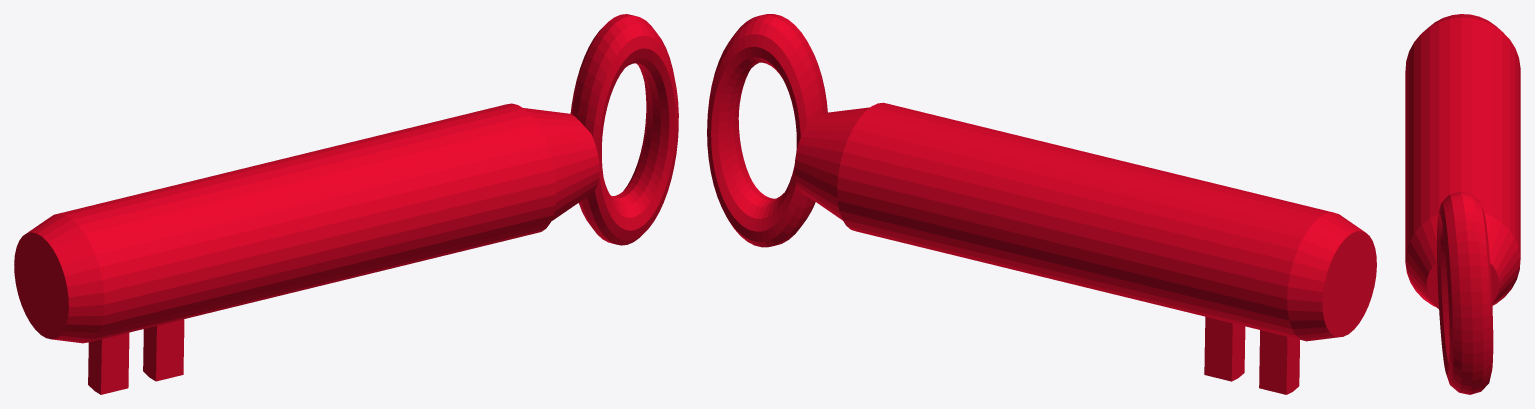
File: key klucz czerwony.fbx
3 views of the same model, side by side, from view 1: azimuth 30°, elevation 25°; view 2: azimuth 150°, elevation 25°; view 3: azimuth 270°, elevation 25° (orthographic). The views are drawn at different scales.
Parts seen in each view (by area): view 1: key.001; view 2: key.001; view 3: key.001.
Part boxes in pixels (x1=…): key.001: x1=14, y1=14, x2=678, y2=394; key.001: x1=707, y1=14, x2=1376, y2=394; key.001: x1=1405, y1=14, x2=1520, y2=394.
Bounding box in the file's own units: 11.08 × 4.11 × 2.
